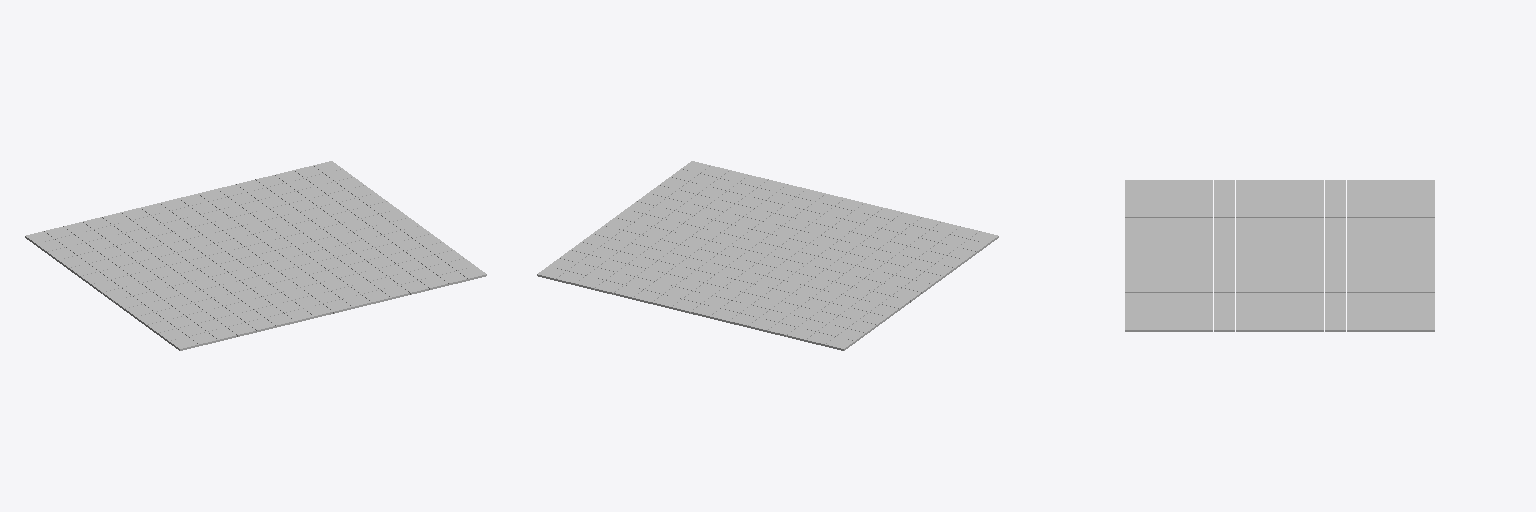
Rendered from pavers.obj.
The picture shows the model from 3 angles: view 1: azimuth 30°, elevation 25°; view 2: azimuth 150°, elevation 25°; view 3: azimuth 270°, elevation 25°; orthographic projection.
Parts seen in each view (by area): view 1: Cube.003, Cube.168, Cube.160, Cube.055, Cube.141, Cube.163; view 2: Cube.003, Cube.168, Cube.160, Cube.141, Cube.055, Cube.163; view 3: Cube.003, Cube.168, Cube.160, Cube.055, Cube.141, Cube.163.
Boxes of the visible parts, x1=… form: Cube.003: x1=44, y1=166, x2=467, y2=345; Cube.168: x1=25, y1=161, x2=486, y2=350; Cube.160: x1=116, y1=196, x2=394, y2=313; Cube.055: x1=100, y1=206, x2=389, y2=287; Cube.141: x1=122, y1=222, x2=411, y2=303; Cube.163: x1=105, y1=191, x2=405, y2=318; Cube.003: x1=556, y1=166, x2=979, y2=345; Cube.168: x1=537, y1=161, x2=998, y2=350; Cube.160: x1=629, y1=196, x2=907, y2=313; Cube.141: x1=634, y1=206, x2=923, y2=287; Cube.055: x1=612, y1=222, x2=901, y2=303; Cube.163: x1=618, y1=191, x2=918, y2=318; Cube.003: x1=1125, y1=189, x2=1434, y2=320; Cube.168: x1=1125, y1=180, x2=1434, y2=331; Cube.160: x1=1169, y1=208, x2=1390, y2=301; Cube.055: x1=1280, y1=189, x2=1323, y2=320; Cube.141: x1=1236, y1=189, x2=1279, y2=320; Cube.163: x1=1169, y1=208, x2=1390, y2=301.
Size of the model in its own units: 44.52 by 0.2784 by 38.95.